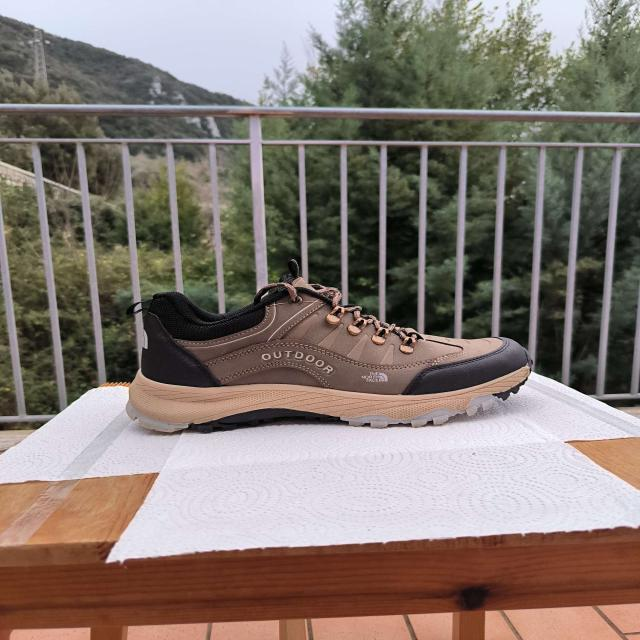shoe: (124, 274, 536, 437)
